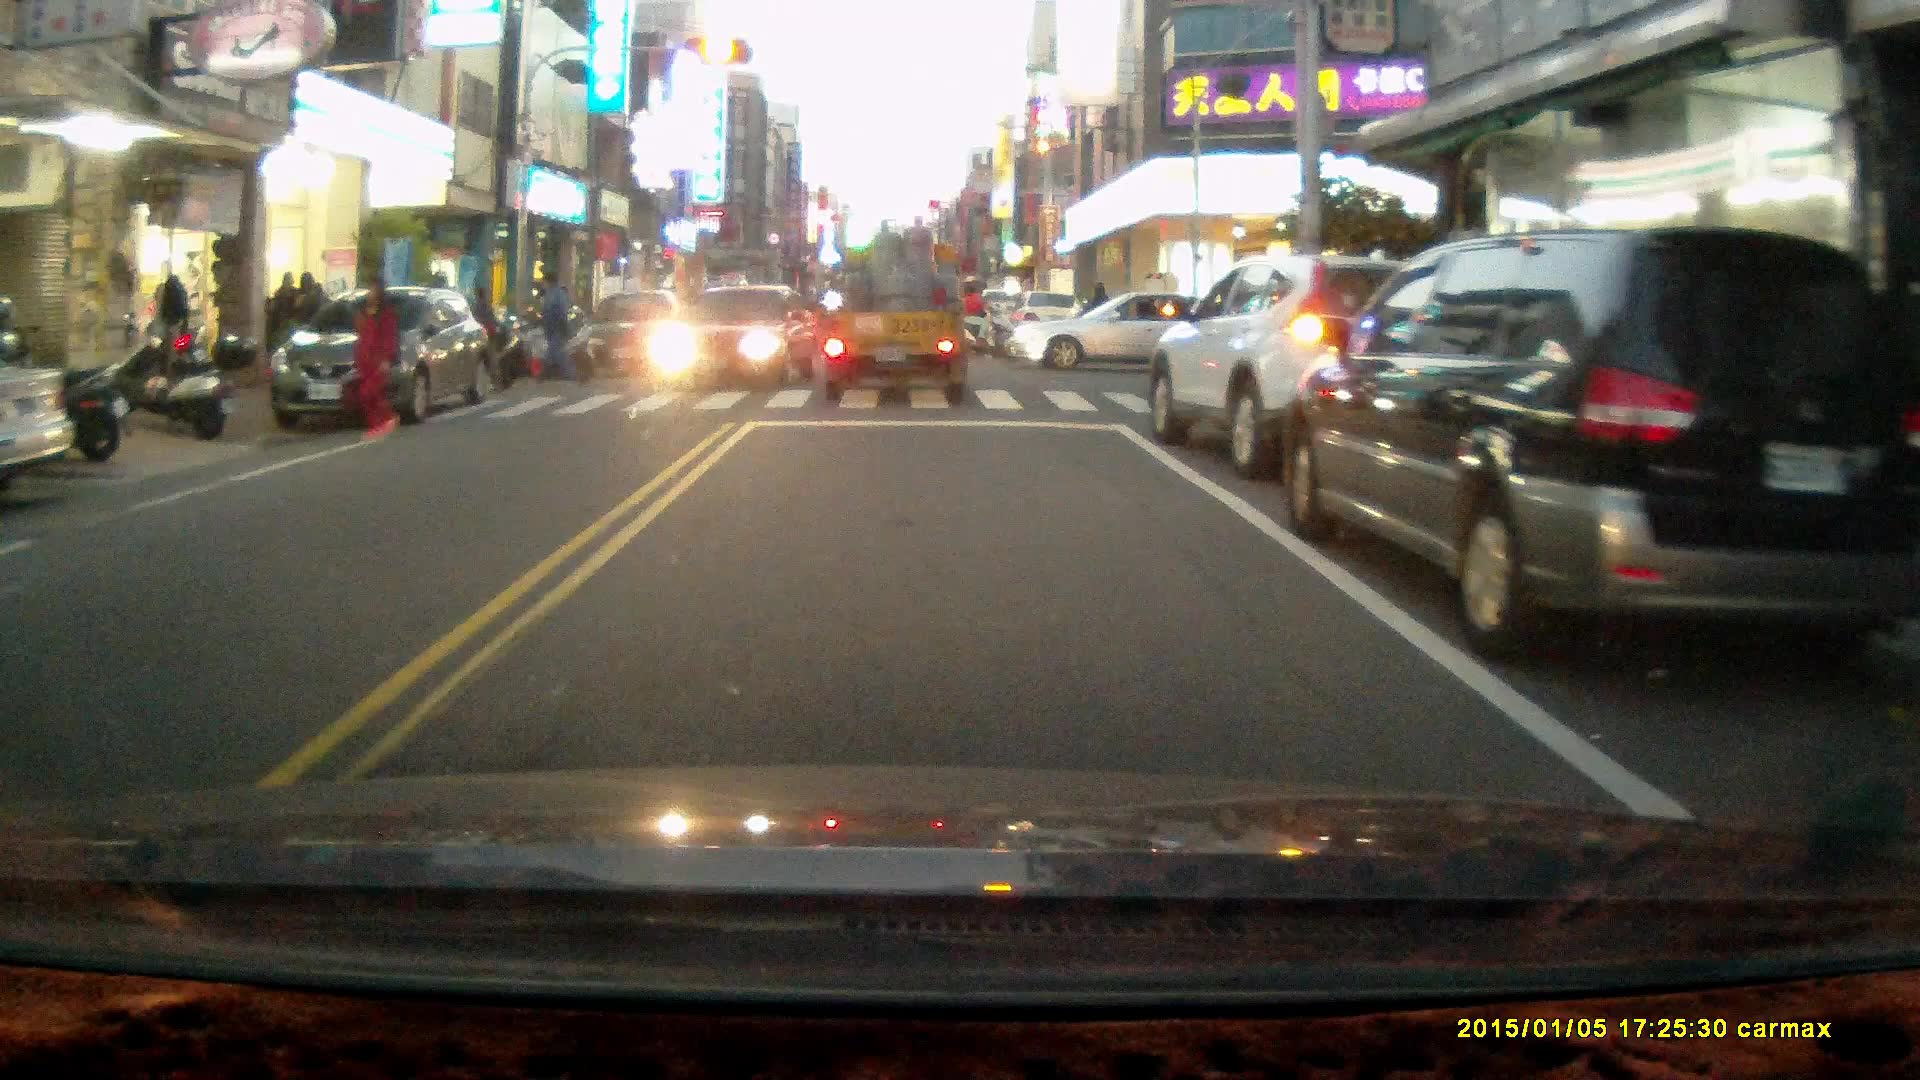pedestrian: (346, 271, 404, 436), (524, 265, 584, 387), (150, 267, 191, 371), (522, 314, 555, 381)
rider: (934, 268, 1020, 358)
vehicle: (1288, 228, 1896, 658), (1147, 250, 1488, 473), (268, 286, 482, 433), (818, 214, 979, 400), (1016, 286, 1244, 373), (650, 282, 816, 388), (571, 287, 698, 377), (1, 358, 78, 476)
